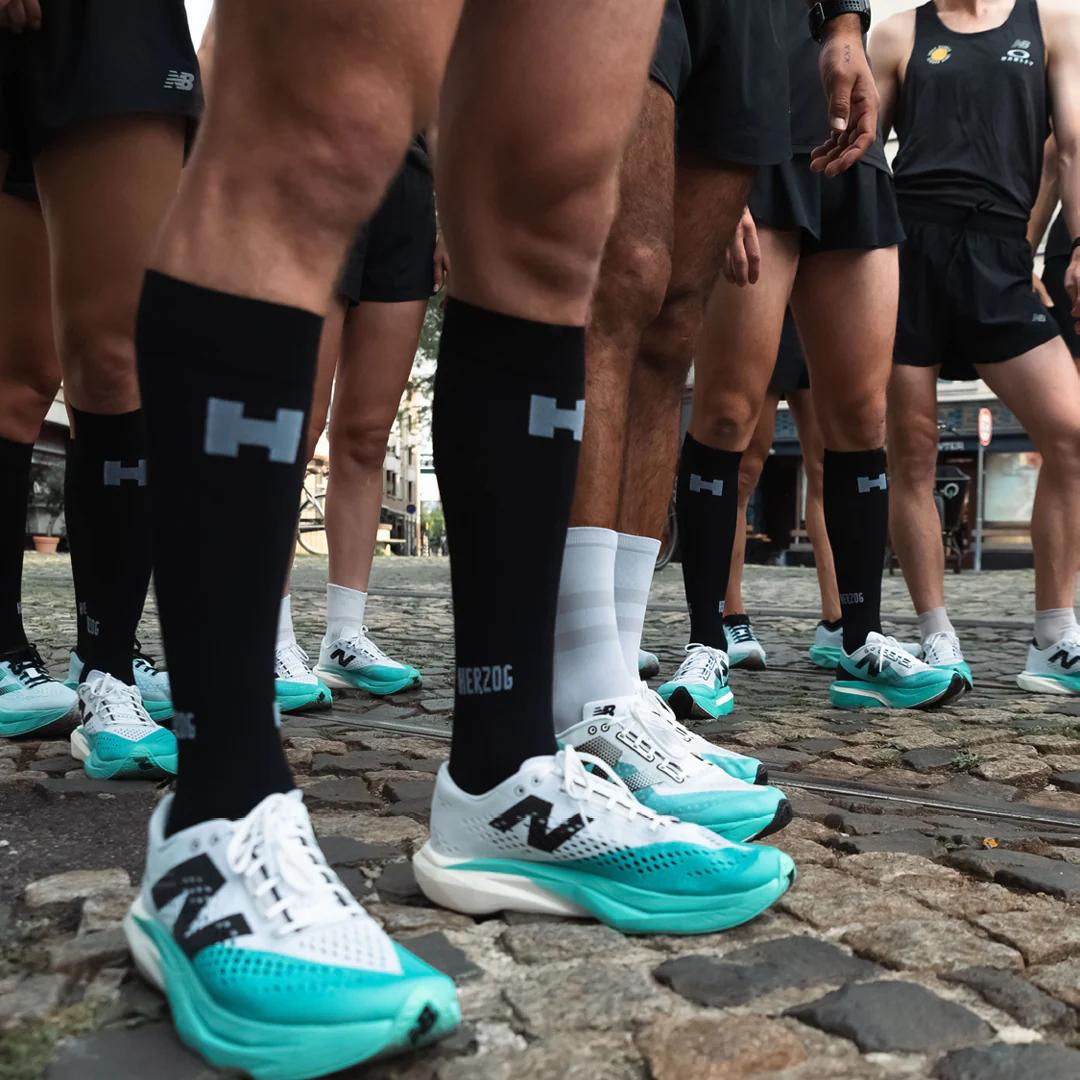NB logo: (146, 837, 266, 971), (490, 778, 606, 856), (849, 646, 896, 683), (1044, 644, 1078, 672), (326, 643, 361, 668)
sock logo: (147, 280, 314, 794), (447, 316, 584, 753), (67, 416, 137, 673), (829, 454, 894, 630), (690, 441, 734, 647)
